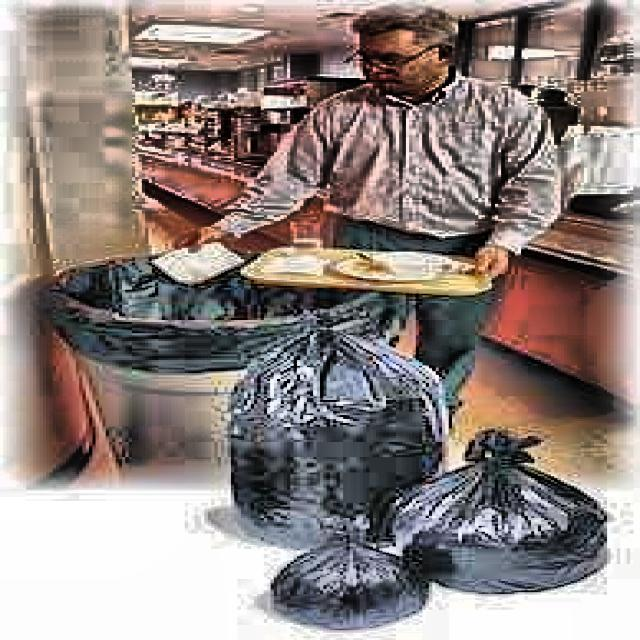Plastic: (218, 311, 461, 548), (393, 431, 610, 607), (255, 539, 430, 640)
